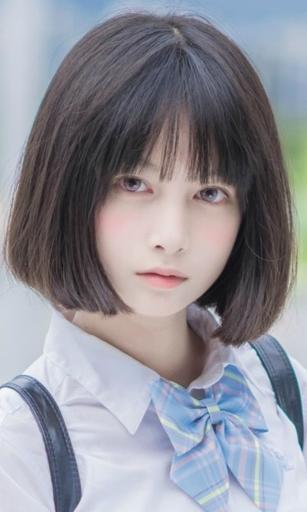left_eye: (192, 186, 233, 210)
left_lip_corner: (181, 274, 193, 288)
right_eye: (110, 176, 155, 201)
right_lip_corner: (132, 268, 145, 285)
